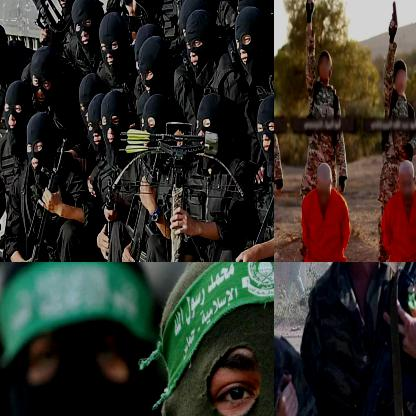pistol: (387, 0, 400, 38), (304, 0, 318, 14)
rifle: (330, 262, 415, 415), (25, 136, 70, 261), (122, 149, 163, 261), (14, 0, 62, 39), (118, 0, 153, 38), (0, 88, 10, 198)
